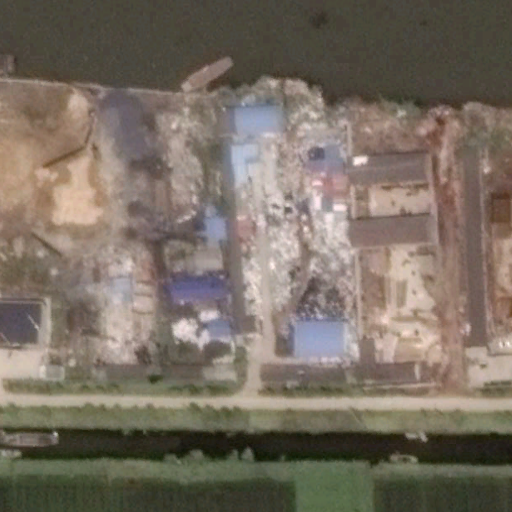msw: (231, 80, 360, 321)
